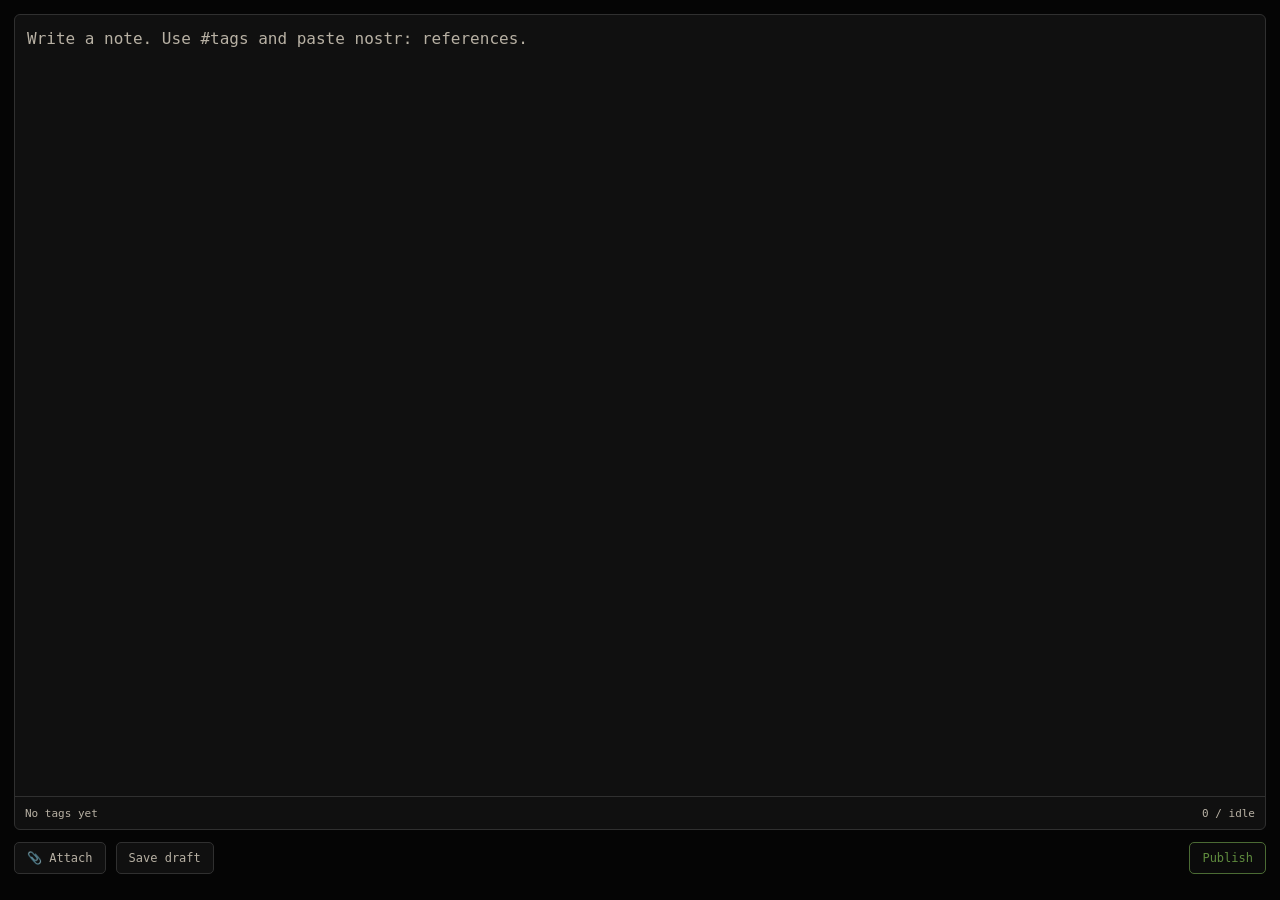
Scenario: compose app reply context › supports mouse selection in the mention list
Type "cc @da" into the text box with placeholder "Write a note. Use #tags and paste nostr: references." at [640, 406], box [15,15,1265,796]
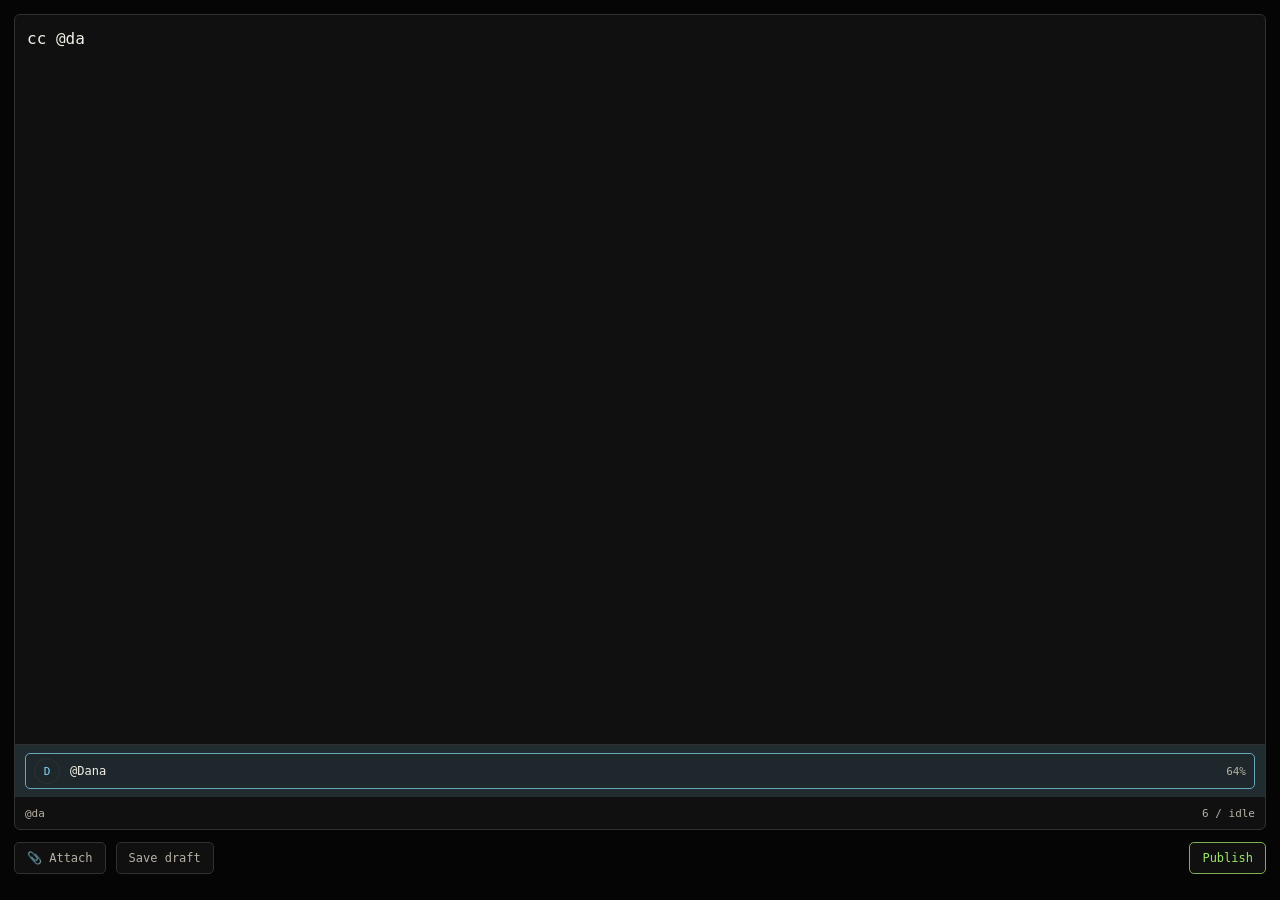
Click the option with class "mention-option" at [88, 771], box [25,753,1255,789]
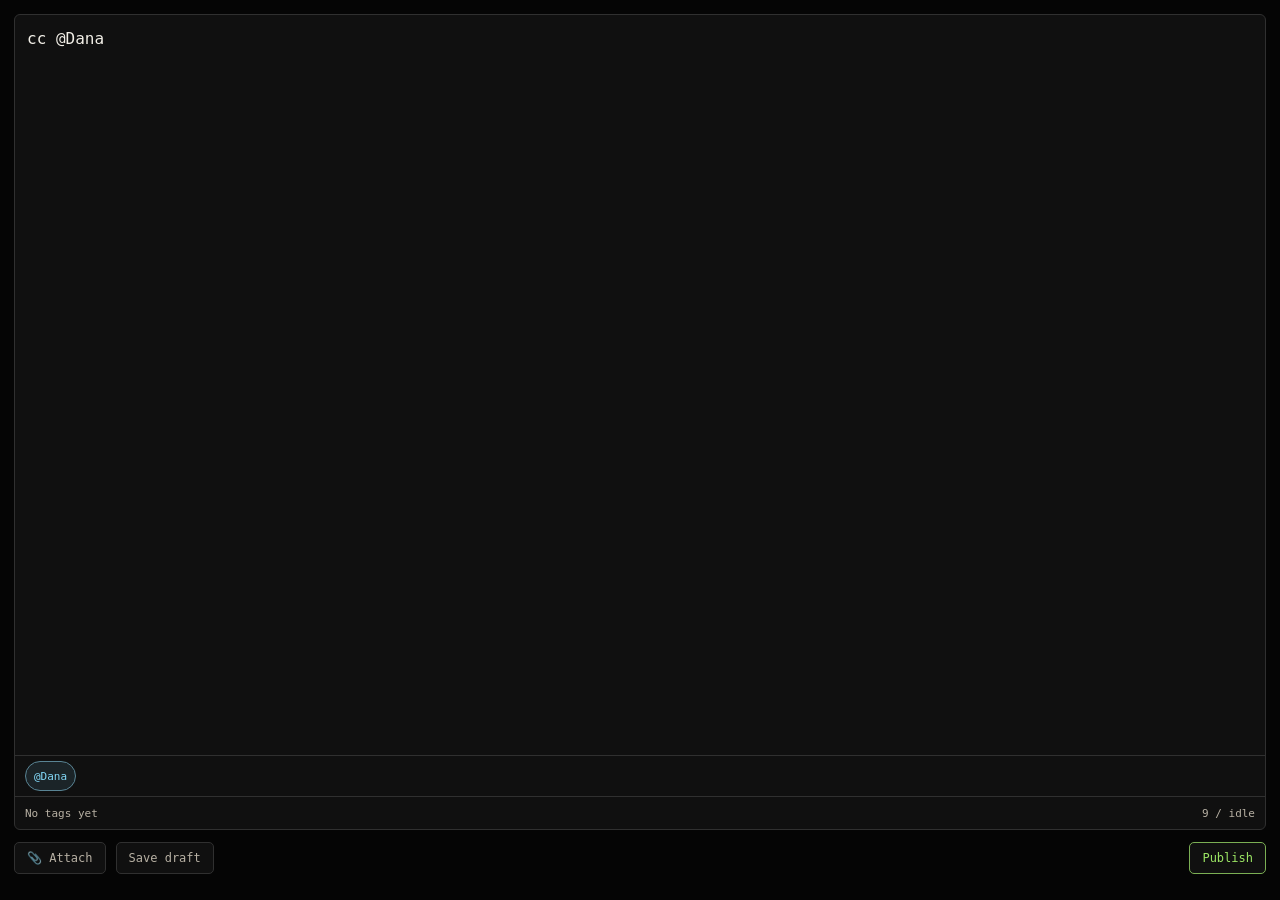
Result: the text box named "Compose note" holds "cc @Dana "
